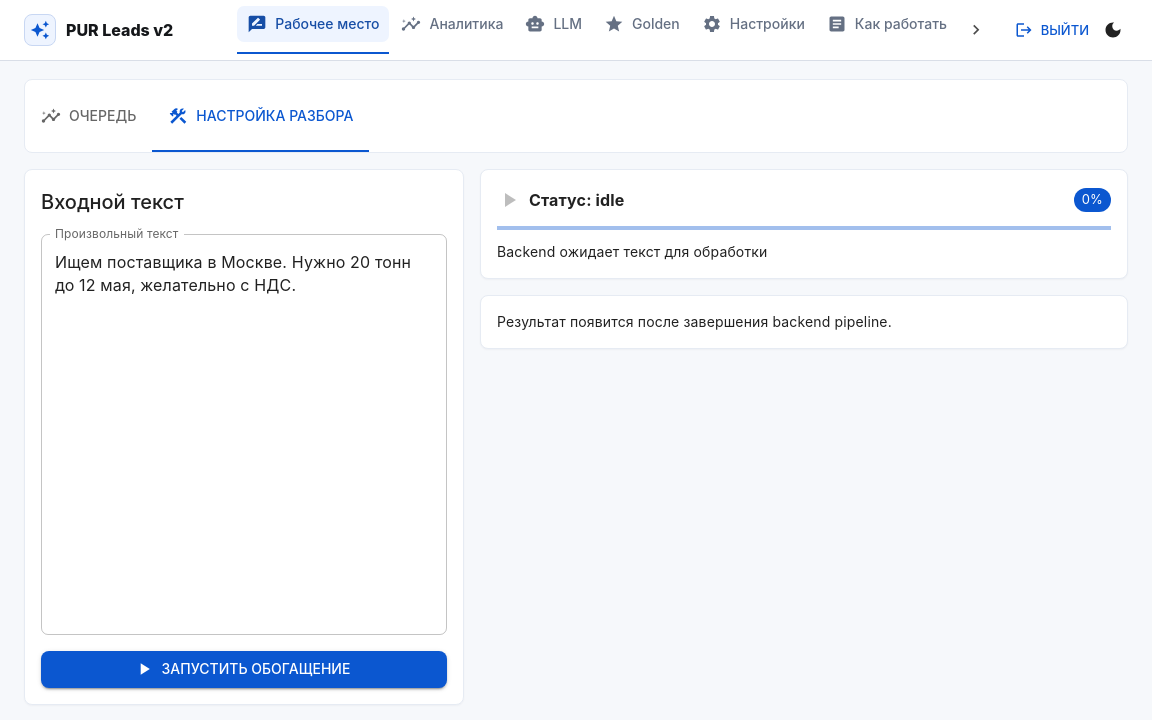
Scenario: renders lead assessment from completed enrichment event
The width and height of the screenshot is (1152, 720).
Expected: the element named "Основная навигация" is shown, [237,6,956,42]
Expected: the text box labelled "Произвольный текст" is shown, [55,250,433,618]
Click the button "Запустить обогащение". click: (244, 669)
box: [41,651,447,688]
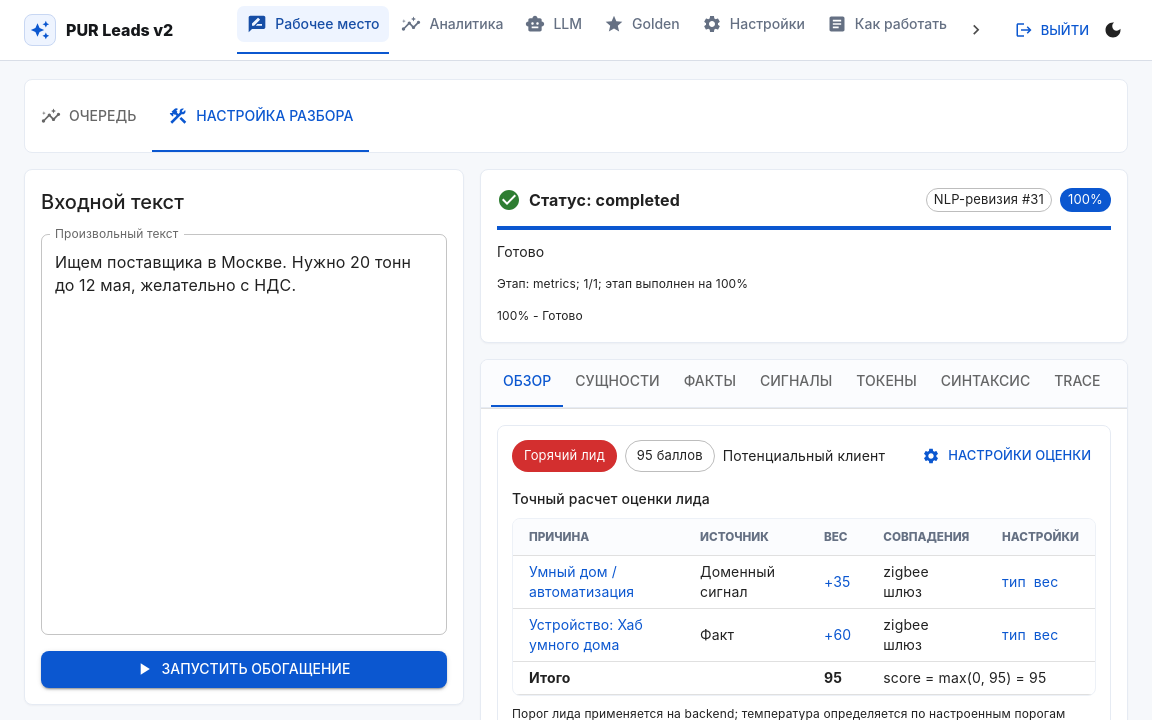
Now the text "Горячий лид" is shown, box [524,447,605,463]
Now the text "NLP-ревизия #31" is shown, box [927,190,1051,210]
Now the text "95 баллов" is shown, box [637,447,703,463]
